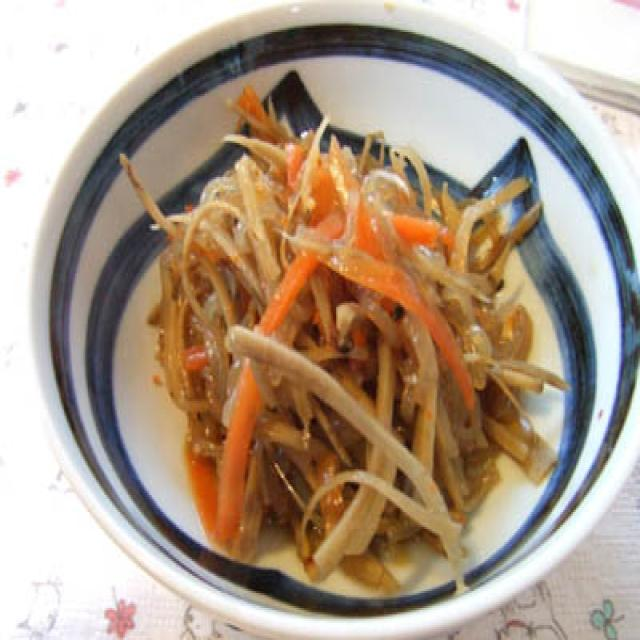蔬菜料理: (32, 15, 630, 608)
